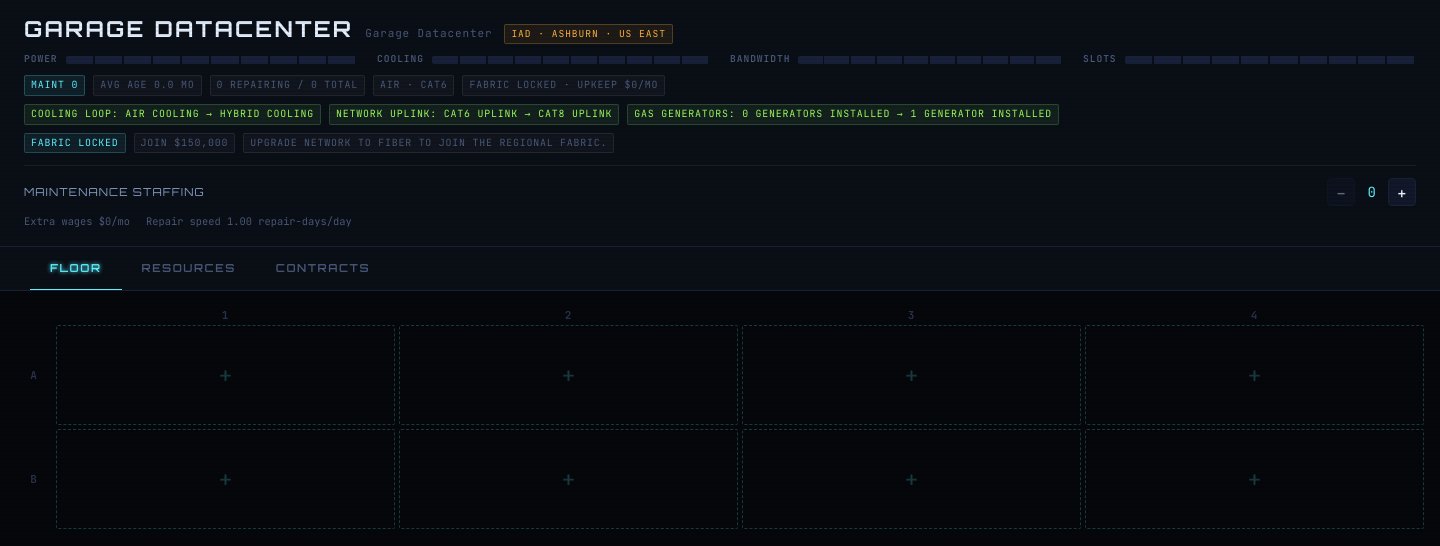
Test: DatacenterView maintenance staffing controls › increases and decreases maintenance staffing from the stepper
This screenshot has width=1440, height=546.
What coordinates should you click on to do the following:
click the button named "Increase maintenance staff"
I would click on:
 (1402, 192)
Its box is [1388, 178, 1416, 206].
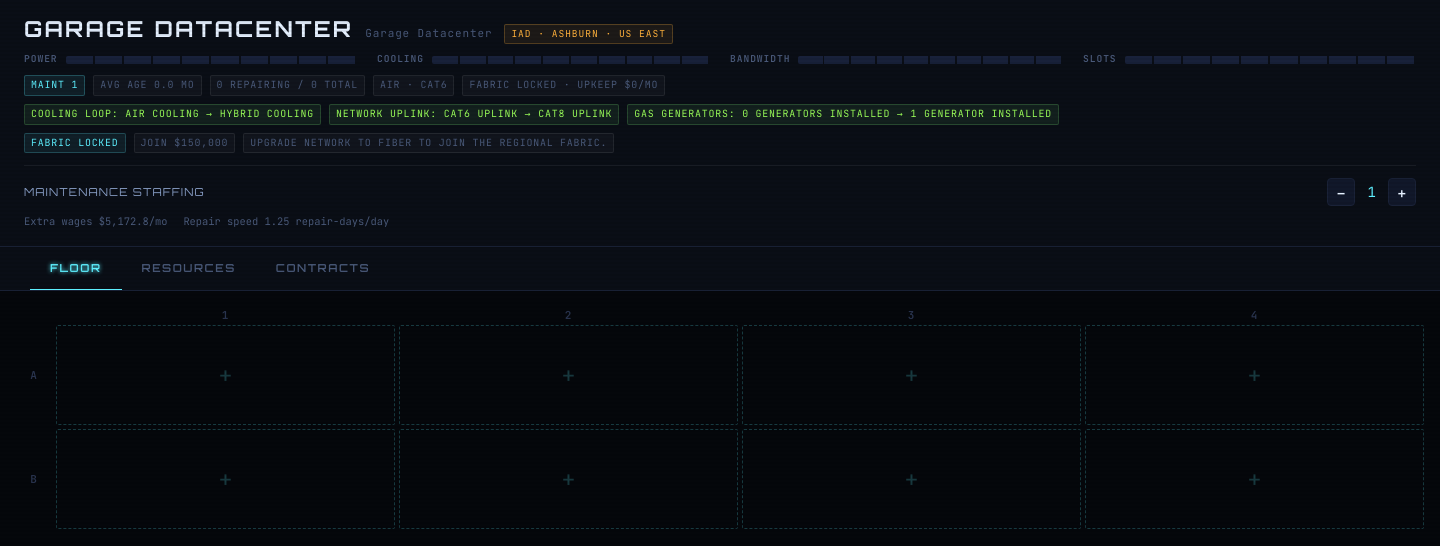
Expected: the text "Extra wages $5,172.8/mo" is shown, [24, 214, 167, 230]
Now the text "MAINT 1" is shown, box [24, 75, 85, 96]
What coordinates should you click on to do the following:
click the button named "Decrease maintenance staff"
I would click on:
 (1341, 192)
Its box is [1327, 178, 1355, 206].
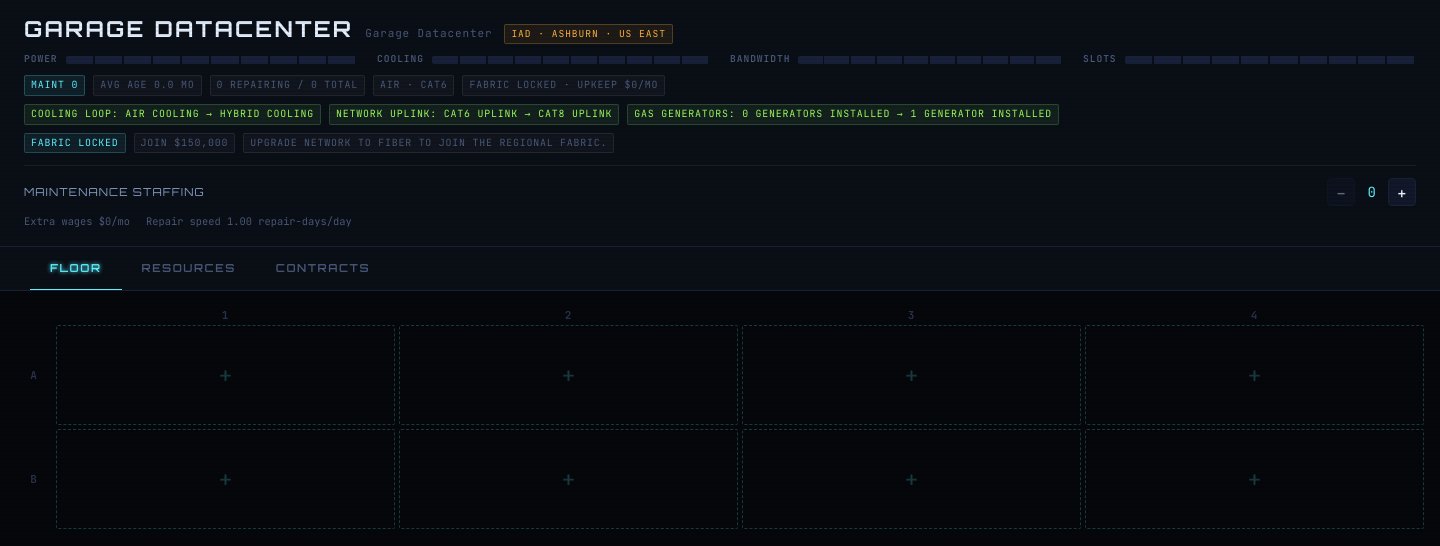
Now the text "MAINT 0" is shown, box [24, 75, 85, 96]
